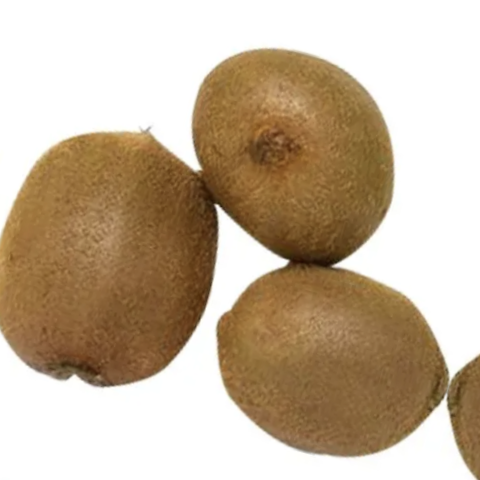kiwi: (0, 80, 262, 439), (141, 8, 450, 306), (172, 238, 470, 480)
